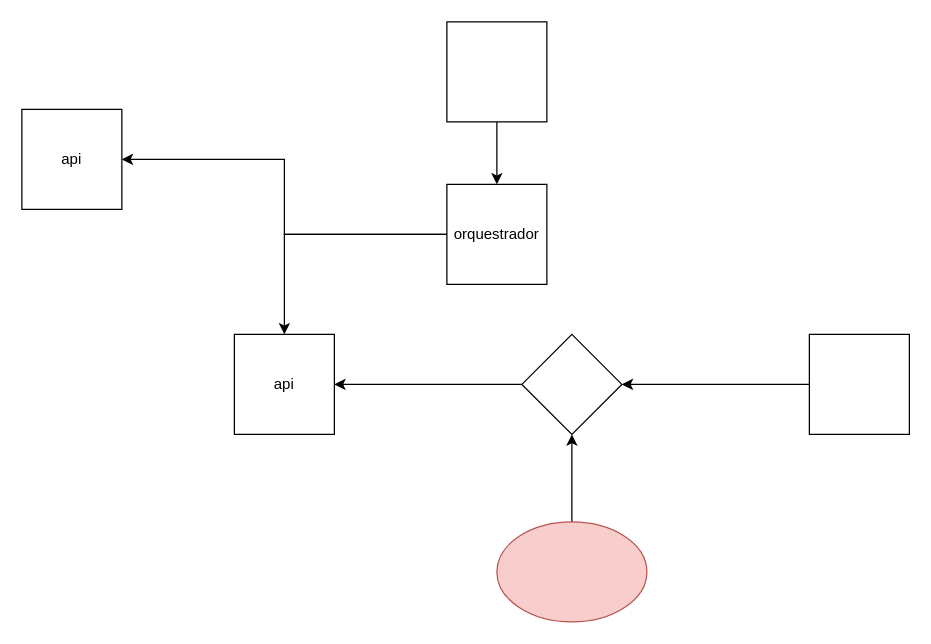
Image size: 931x644. Some labels were removed from this diagram. The shapes that lost their labels are listed below. From the top down, each one's centre as x and y in pixels, then its label:
the point at 496,71: requisicao
the point at 858,383: intelipost
